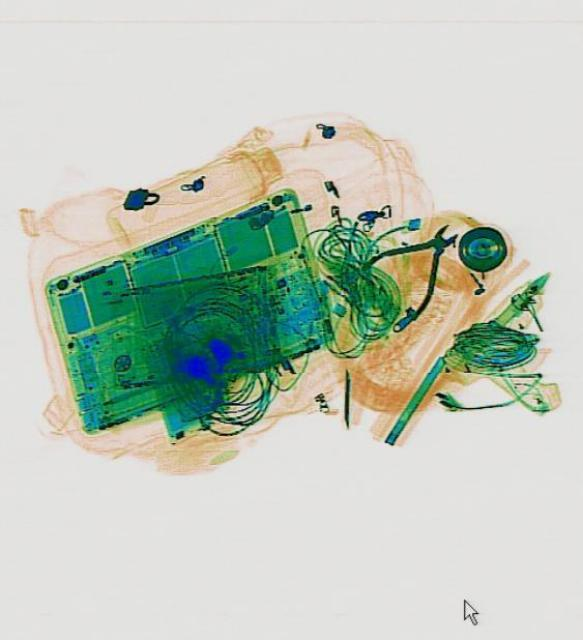Pliers: (353, 199, 478, 323)
